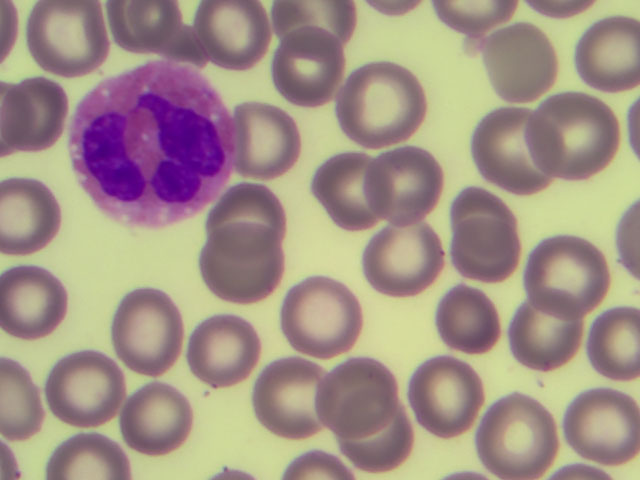Platelets: (457, 31, 483, 65)
RBC: (335, 60, 422, 143), (231, 99, 318, 182), (209, 167, 296, 250), (194, 225, 281, 308), (107, 289, 194, 372), (47, 341, 134, 424), (119, 379, 206, 462), (184, 312, 271, 395), (249, 354, 336, 437), (317, 354, 404, 437), (332, 397, 419, 480), (281, 273, 368, 356), (365, 222, 452, 305), (371, 137, 458, 220), (307, 144, 394, 227), (457, 110, 544, 193), (538, 96, 625, 179), (448, 165, 535, 248), (444, 212, 531, 295), (427, 281, 514, 364), (402, 348, 489, 431), (475, 394, 562, 477), (553, 388, 640, 471), (553, 301, 640, 384), (507, 289, 594, 372), (524, 232, 611, 315), (488, 23, 575, 106), (567, 13, 640, 94), (1, 253, 63, 343), (1, 353, 63, 443), (1, 76, 63, 166), (187, 2, 269, 70), (262, 34, 344, 102), (25, 1, 107, 68), (98, 1, 180, 68), (273, 1, 362, 46)
WBC: (67, 65, 236, 227)
